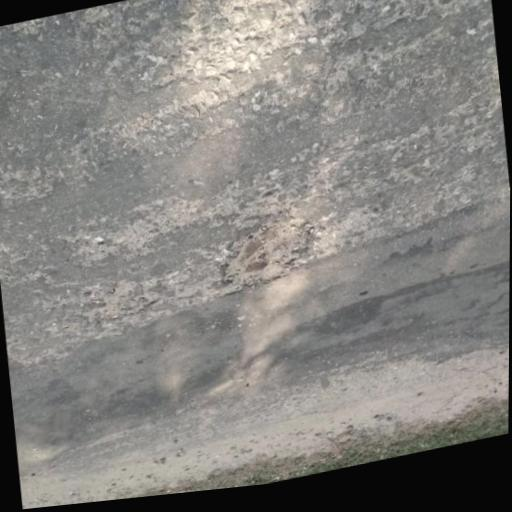pothole: (222, 200, 317, 289)
